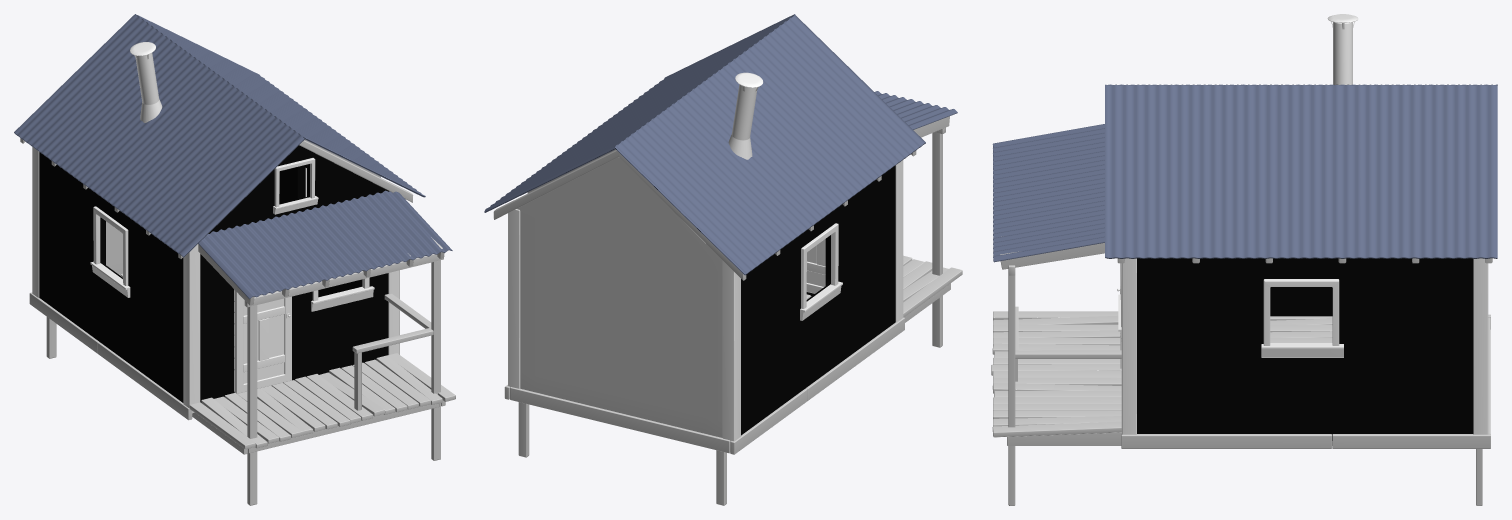
Rendered from propFrontWall_UVW001.fbx.
3 renders of one model, left to right at view 1: azimuth 30°, elevation 25°; view 2: azimuth 150°, elevation 25°; view 3: azimuth 270°, elevation 25°, orthographic. The views are drawn at different scales.
Visible parts, largest first — view 1: FrontWall_UVW001; view 2: FrontWall_UVW001; view 3: FrontWall_UVW001.
Boxes of the visible parts, box(x1,y1,x2,y2) form: FrontWall_UVW001: box(14, 14, 455, 505); FrontWall_UVW001: box(484, 14, 962, 505); FrontWall_UVW001: box(991, 14, 1497, 505).
Bounding box in the file's own units: 395 × 536 × 610.
